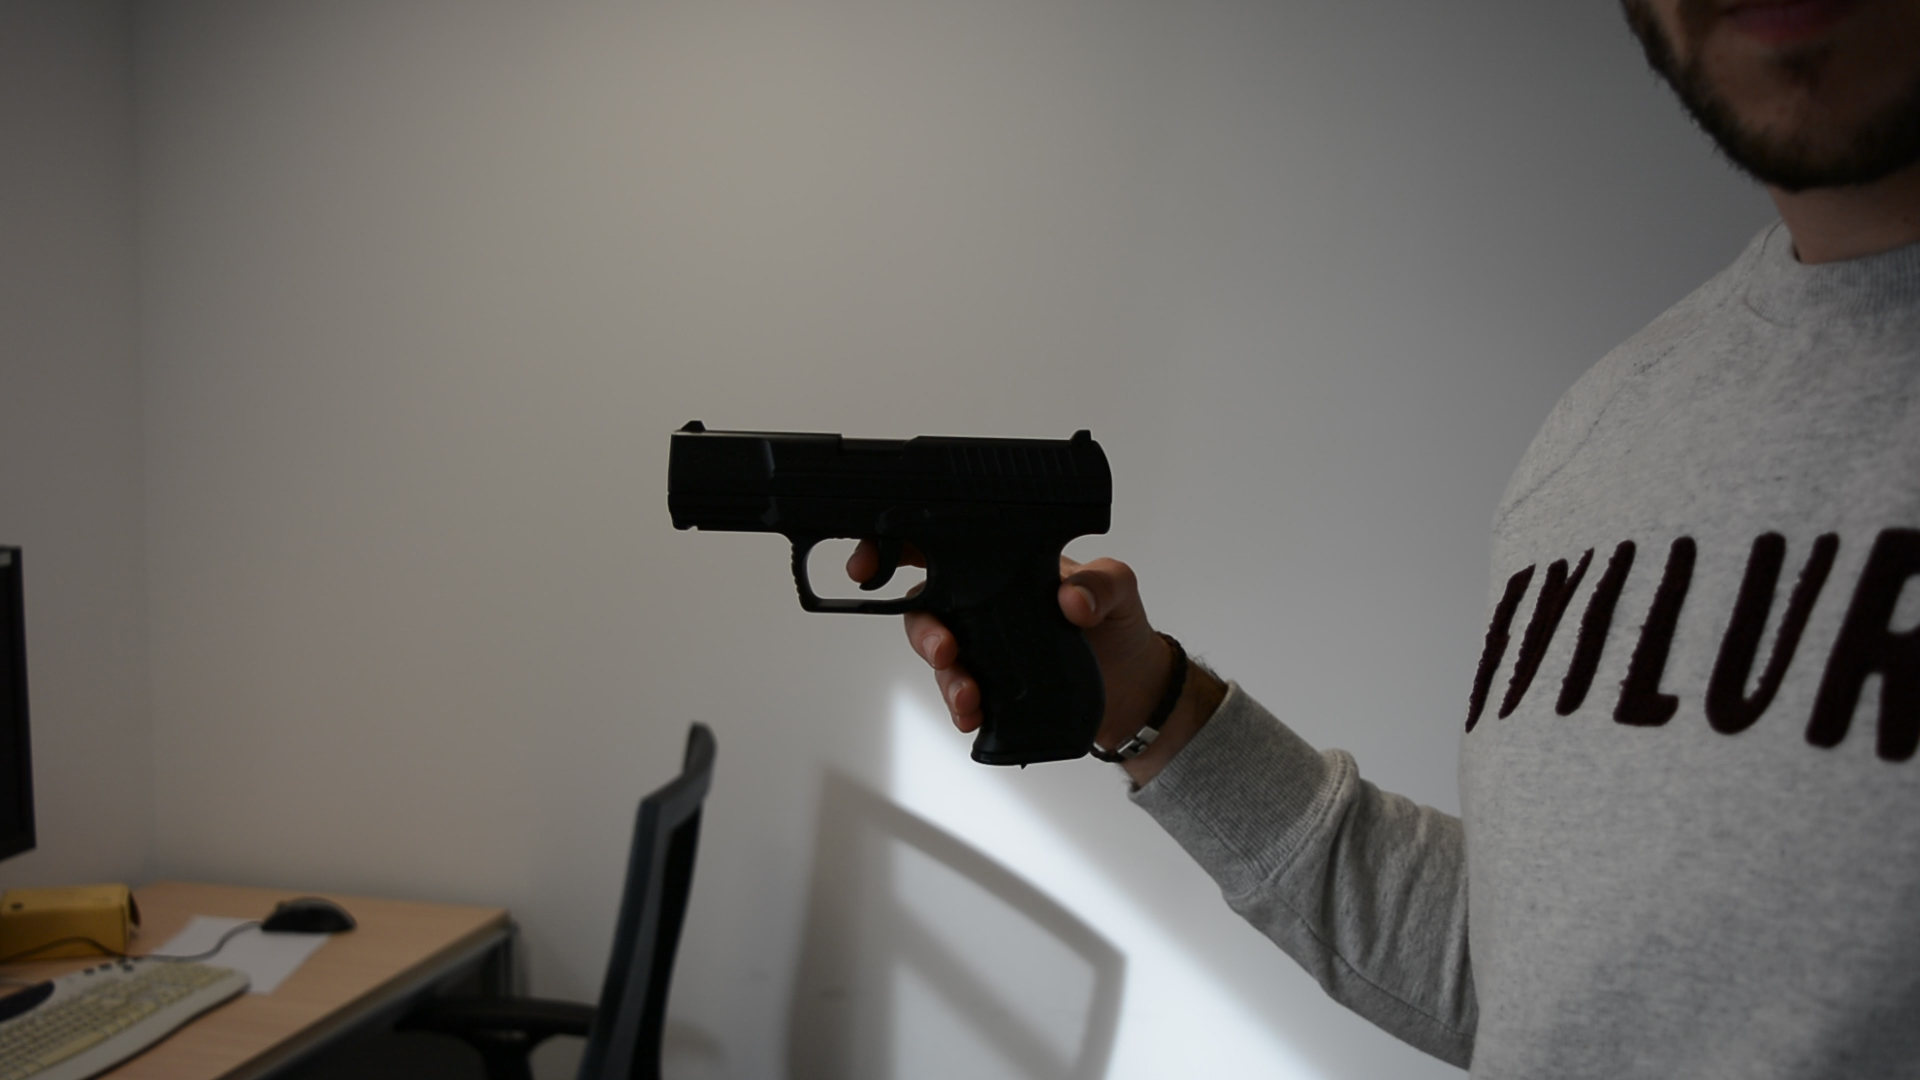pistol: (665, 418, 1116, 769)
